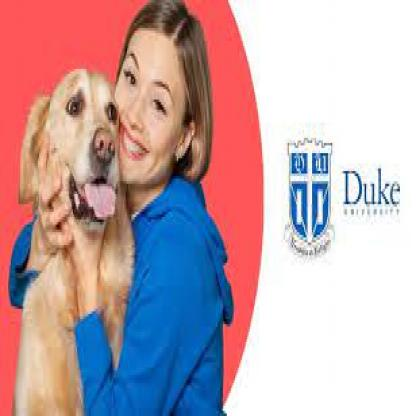dog: (30, 16, 135, 242)
